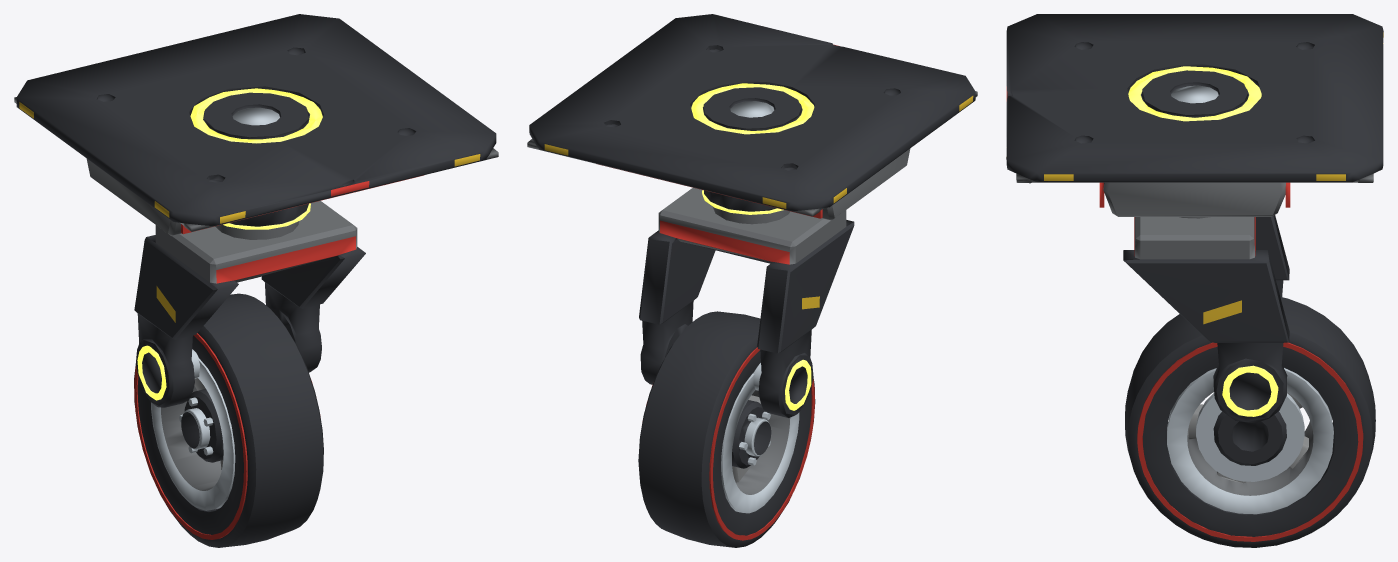
File: R4M_WheelS_Caster_Slick_LOD1.fbx
3 renders of one model, left to right at view 1: azimuth 30°, elevation 25°; view 2: azimuth 150°, elevation 25°; view 3: azimuth 270°, elevation 25°, orthographic. The views are drawn at different scales.
Parts seen in each view (by area): view 1: R4M_WheelS_Caster_Slick_Mount_LOD1, R4M_WheelS_Caster_Slick_Rotor_LOD1, R4M_WheelS_Caster_Slick_Swivel_LOD1; view 2: R4M_WheelS_Caster_Slick_Mount_LOD1, R4M_WheelS_Caster_Slick_Rotor_LOD1, R4M_WheelS_Caster_Slick_Swivel_LOD1; view 3: R4M_WheelS_Caster_Slick_Mount_LOD1, R4M_WheelS_Caster_Slick_Rotor_LOD1, R4M_WheelS_Caster_Slick_Swivel_LOD1.
Part boxes in pixels (bbox=[...]): R4M_WheelS_Caster_Slick_Mount_LOD1: bbox=[14, 14, 498, 235]; R4M_WheelS_Caster_Slick_Rotor_LOD1: bbox=[134, 293, 323, 547]; R4M_WheelS_Caster_Slick_Swivel_LOD1: bbox=[134, 201, 365, 407]; R4M_WheelS_Caster_Slick_Mount_LOD1: bbox=[527, 14, 977, 220]; R4M_WheelS_Caster_Slick_Rotor_LOD1: bbox=[638, 311, 815, 547]; R4M_WheelS_Caster_Slick_Swivel_LOD1: bbox=[639, 187, 854, 417]; R4M_WheelS_Caster_Slick_Mount_LOD1: bbox=[1006, 14, 1383, 216]; R4M_WheelS_Caster_Slick_Rotor_LOD1: bbox=[1125, 297, 1375, 547]; R4M_WheelS_Caster_Slick_Swivel_LOD1: bbox=[1123, 215, 1289, 423].
Bounding box in the file's own units: 0.5108 × 0.6604 × 0.5108.
